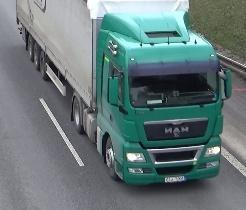Truck: (16, 0, 232, 189)
